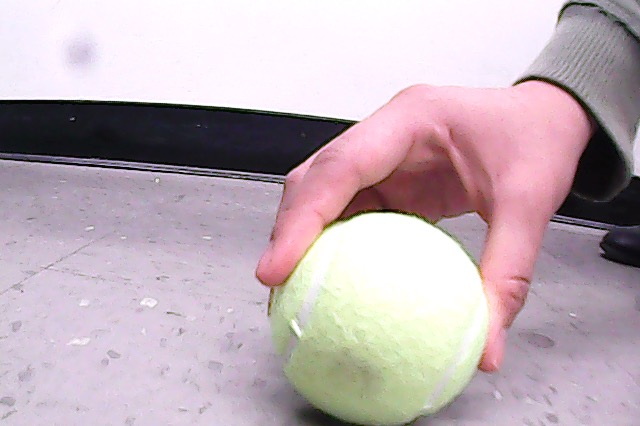ball: (270, 211, 489, 426)
